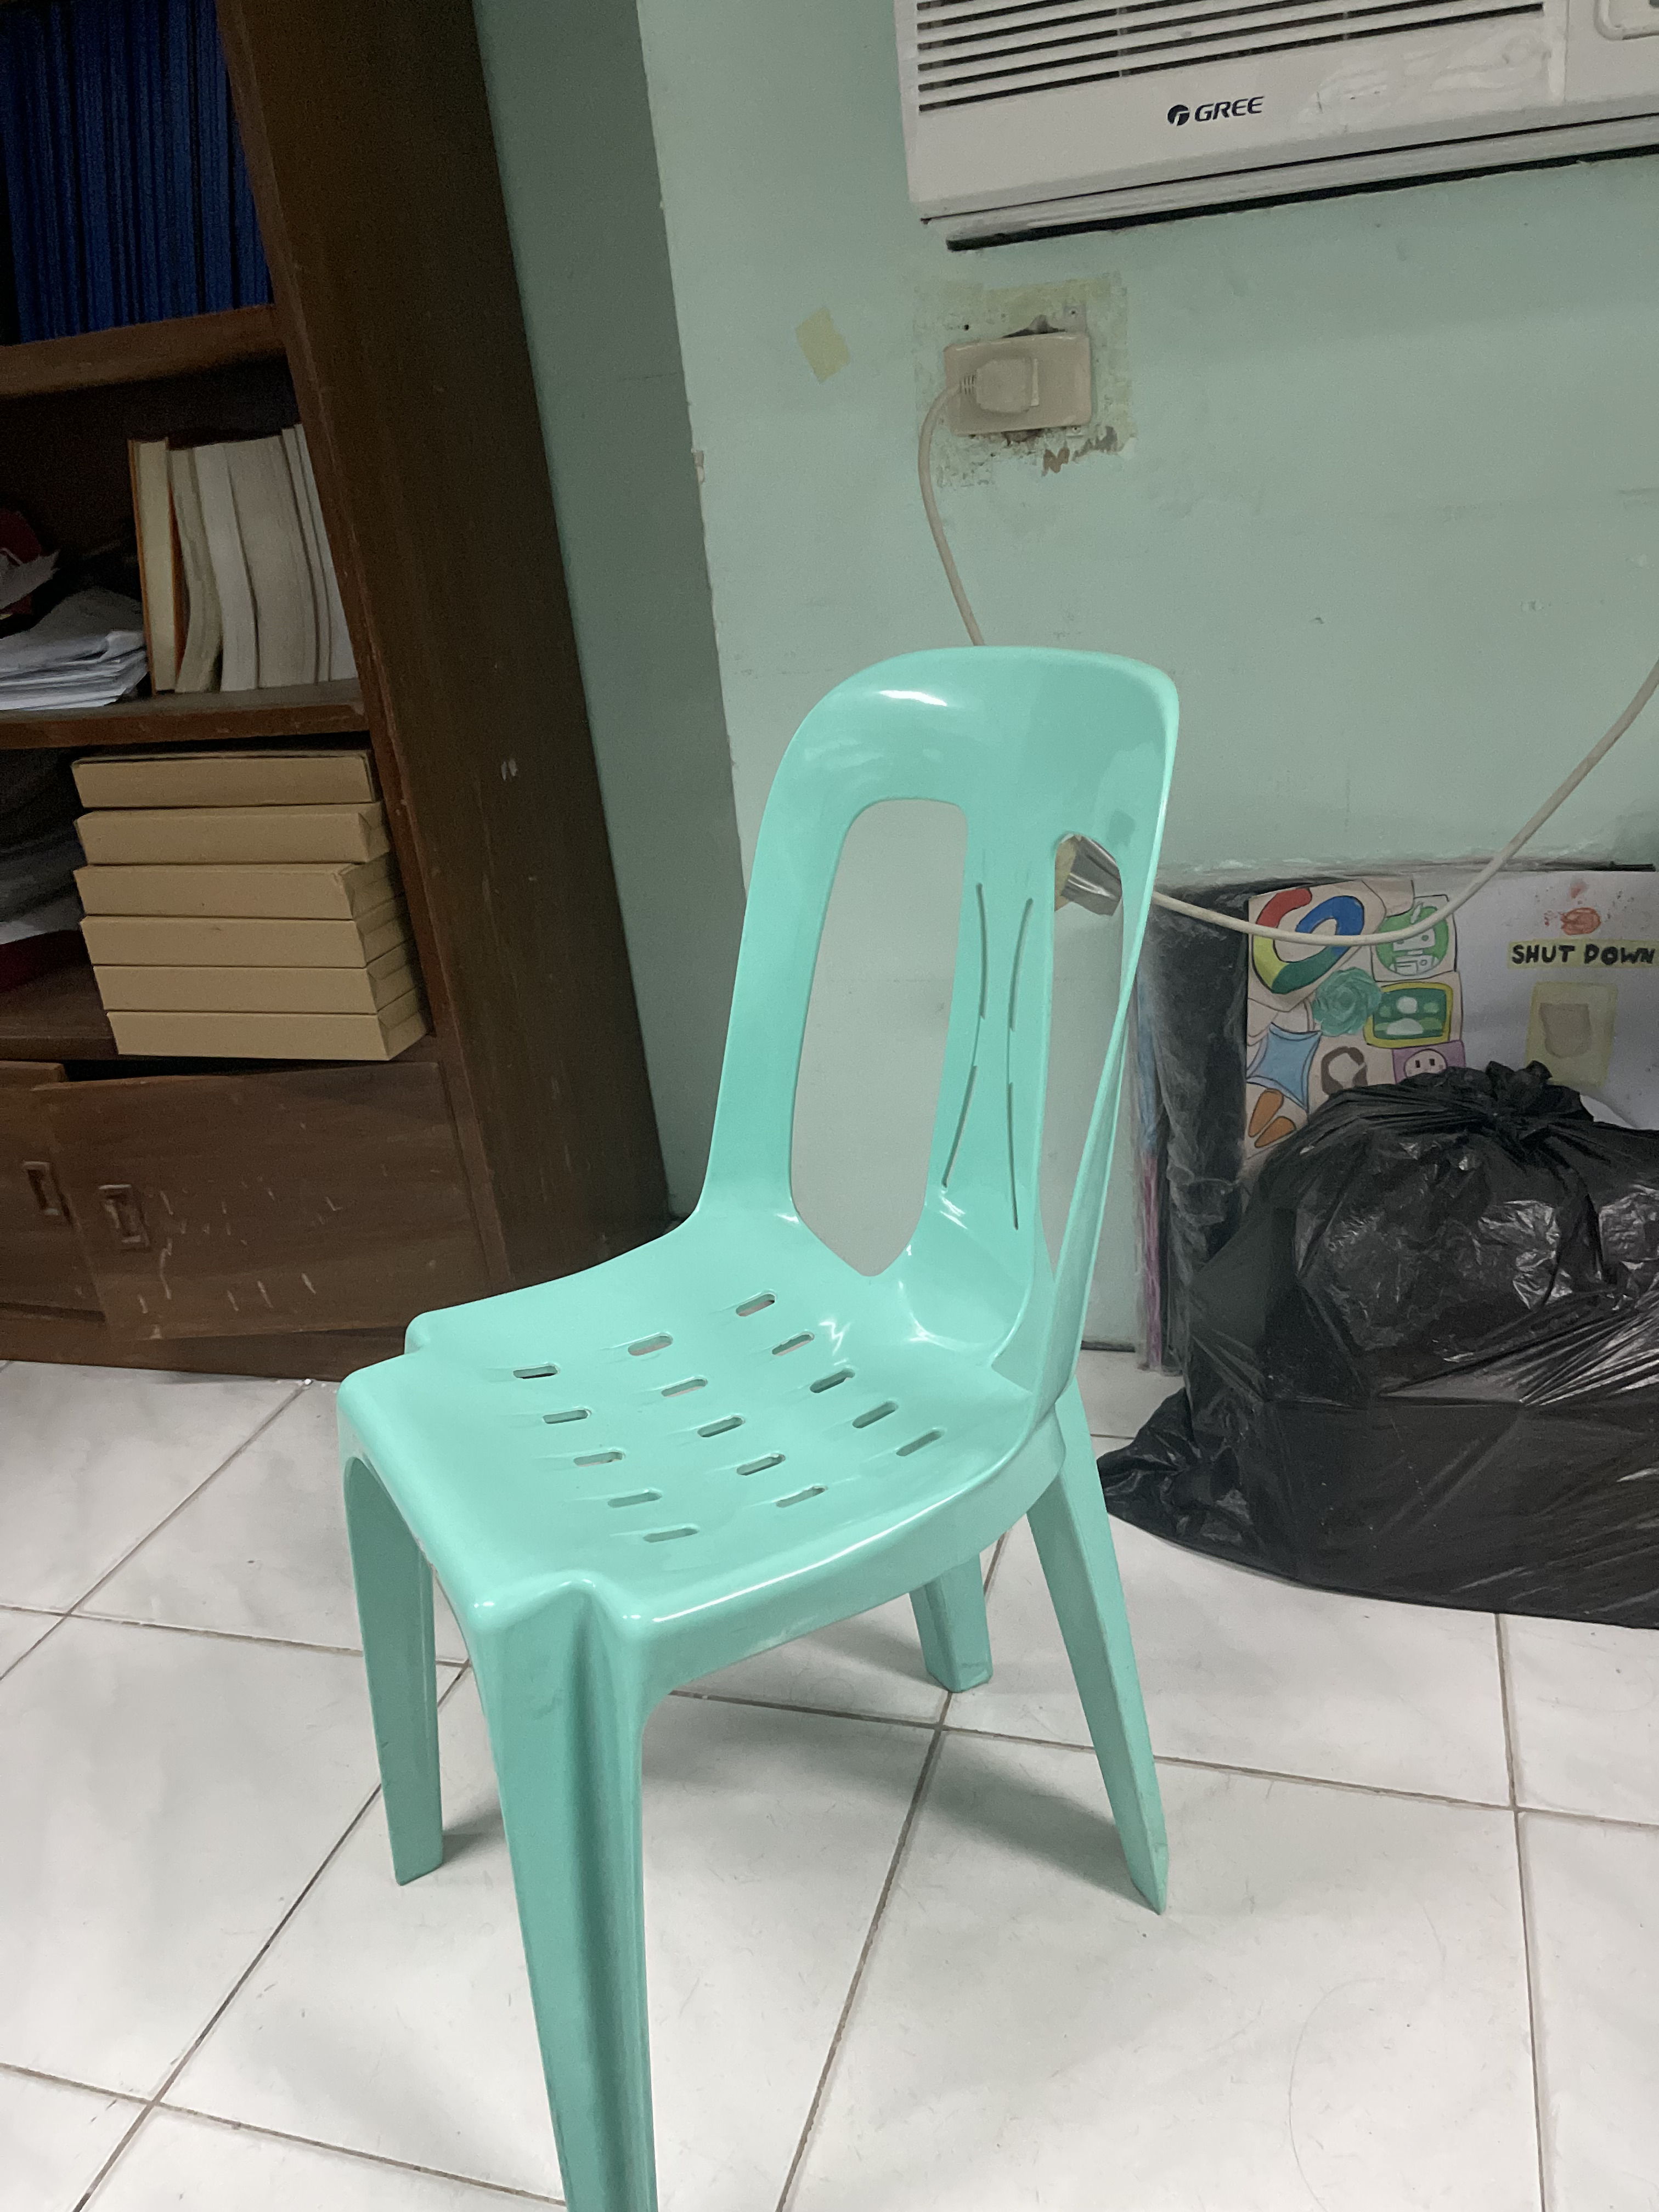chair2: (324, 643, 1204, 2212)
